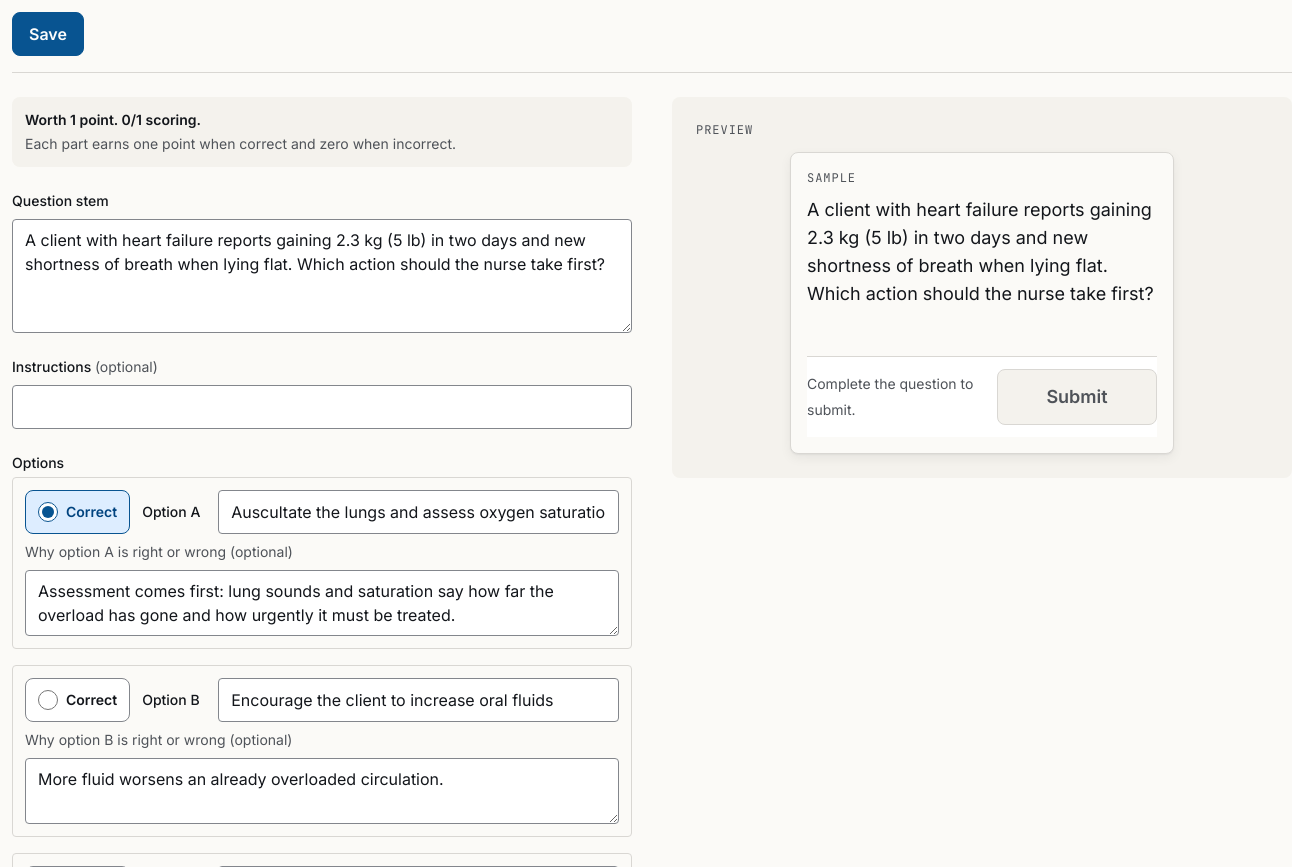
Test case: EditorShell with Save only › says what the save made of the question
The image size is (1292, 867).
Click the button "Save" at x=48, y=34, box [12,12,84,56]
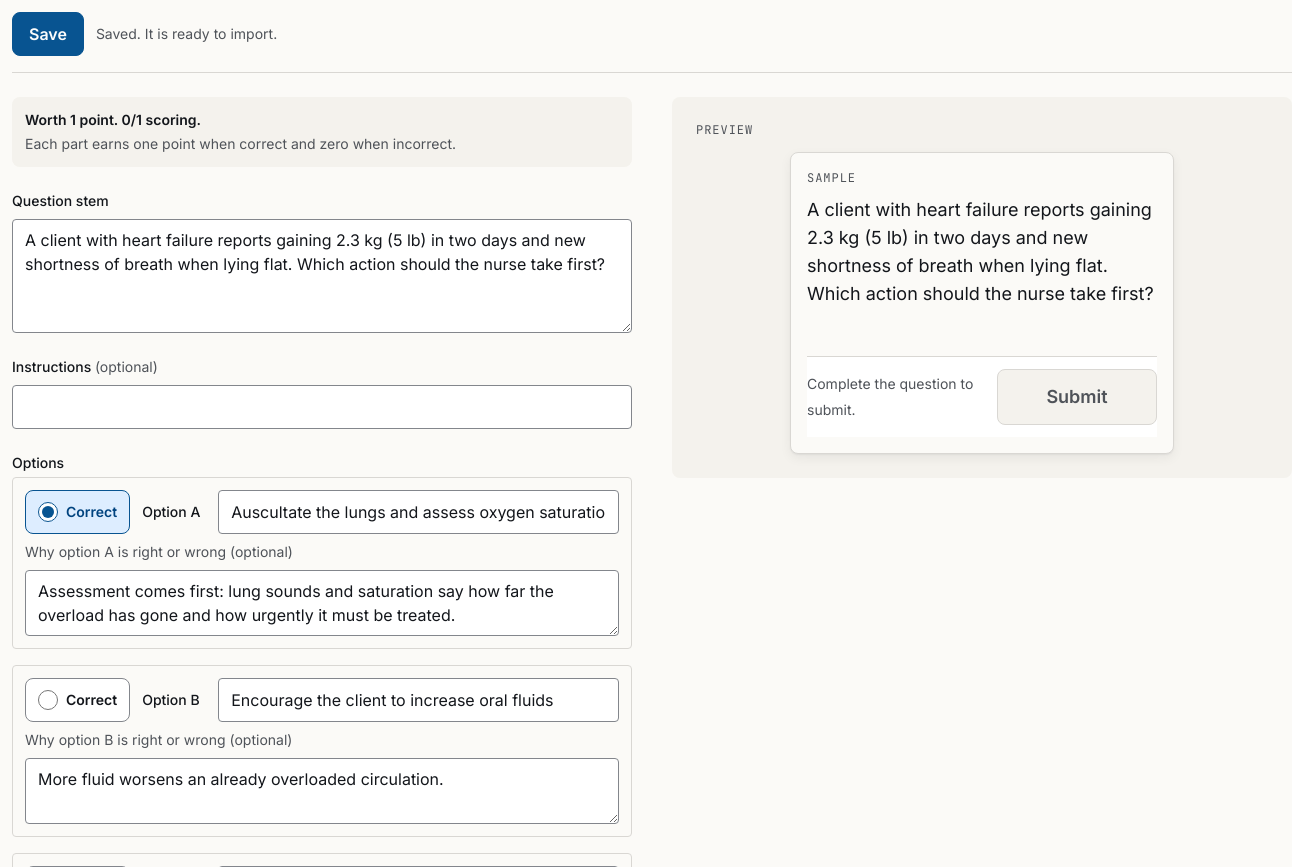
Now the message reads "Saved. It is ready to import.", box [96,25,277,42]
